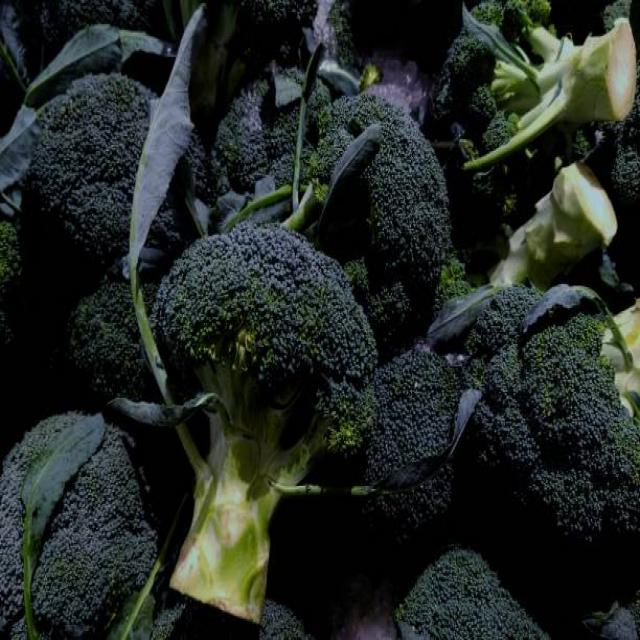broccoli: (152, 245, 346, 594), (476, 288, 640, 588), (0, 414, 144, 624), (451, 0, 640, 160), (336, 89, 465, 301), (383, 532, 548, 640), (363, 354, 454, 504)
